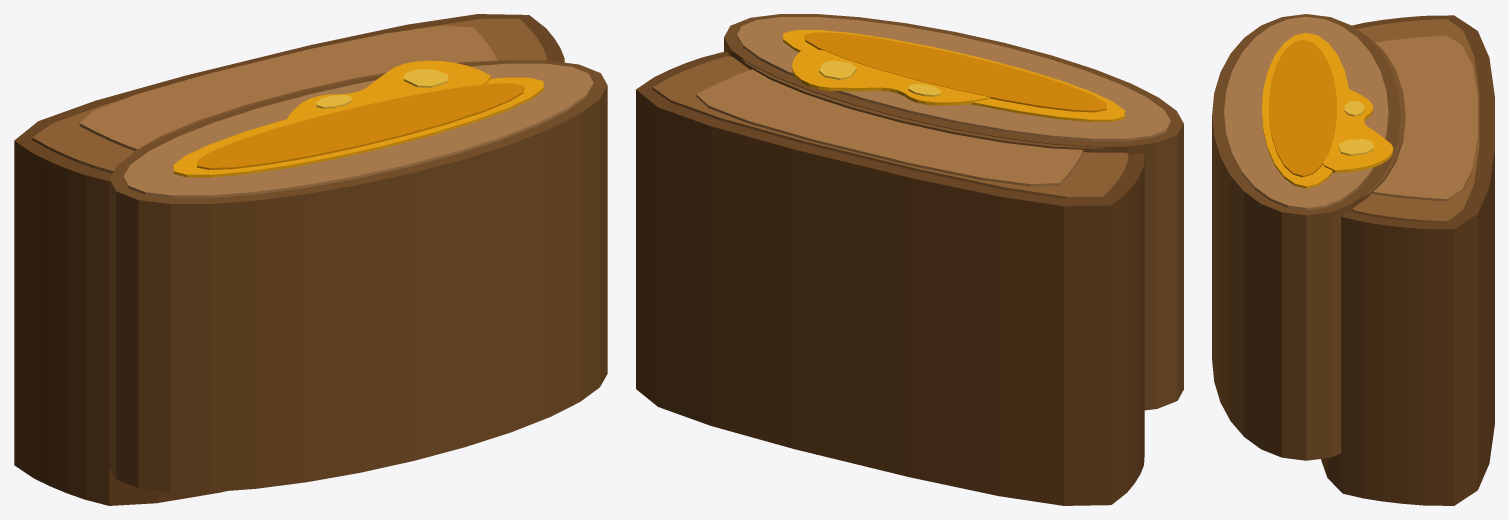
File: bag_pote_mel.fbx
3 views of the same model, side by side, from view 1: azimuth 30°, elevation 25°; view 2: azimuth 150°, elevation 25°; view 3: azimuth 270°, elevation 25° (orthographic). The views are drawn at different scales.
Parts seen in each view (by area): view 1: bag_pote_mel_mochila; view 2: bag_pote_mel_mochila; view 3: bag_pote_mel_mochila.
Boxes of the visible parts, x1,y1,x2,y2 form: bag_pote_mel_mochila: (14, 14, 607, 505); bag_pote_mel_mochila: (636, 14, 1183, 505); bag_pote_mel_mochila: (1212, 14, 1494, 505).
Size of the model in its own units: 2.96 by 1.88 by 1.65.
Materials: 1 (1 with a texture image).
